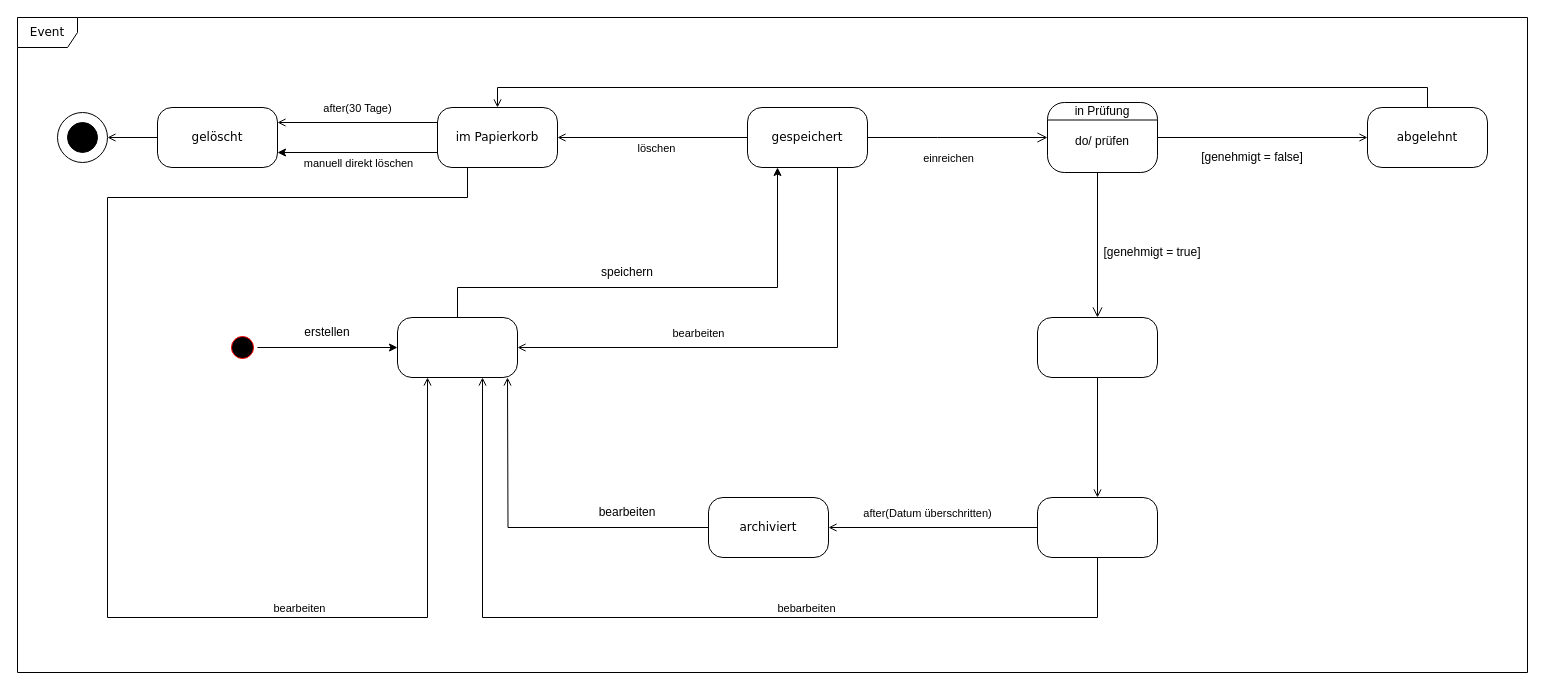
The diagram is 1545 pixels wide and 690 high, and some of its shapes have lost their labels. Here are the shapes that lost their labels. From the top down, the box of each, then its label:
(396, 316, 518, 378): in Bearbeitung
(1036, 316, 1158, 378): genehmigt
(1036, 496, 1158, 558): veröffentlicht
